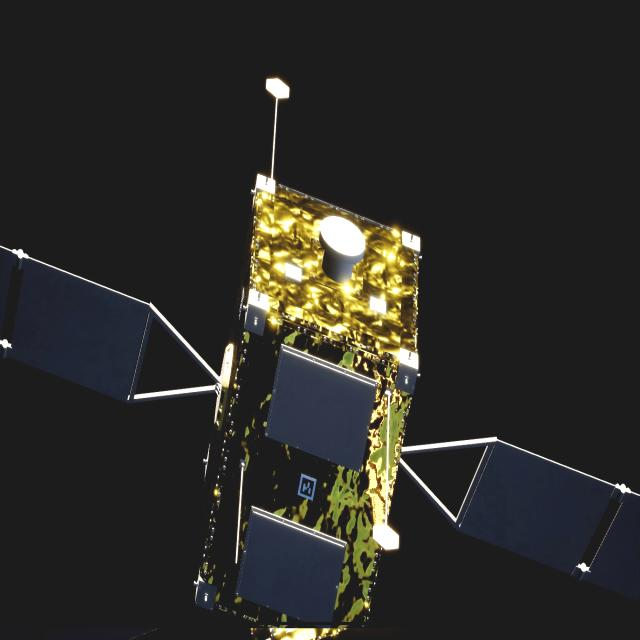satellite: (0, 175, 640, 631)
